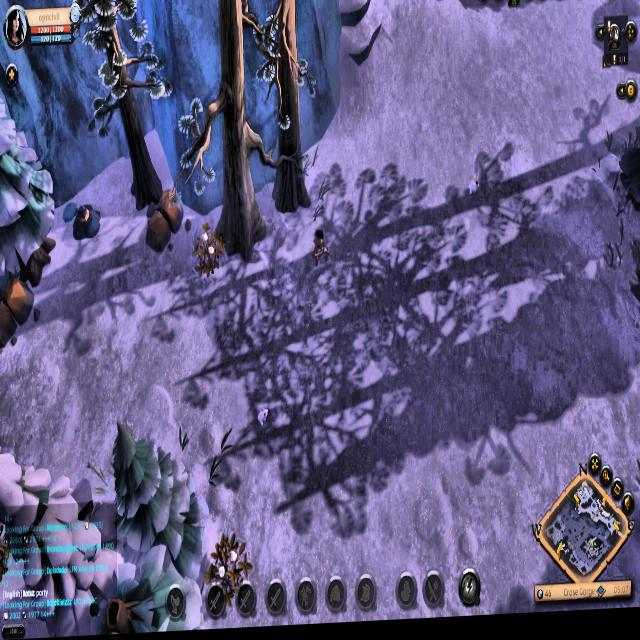copper_ore: (64, 202, 104, 244)
cotton: (208, 537, 253, 595), (192, 228, 233, 275)
limestone: (142, 189, 186, 255), (0, 278, 34, 360)
